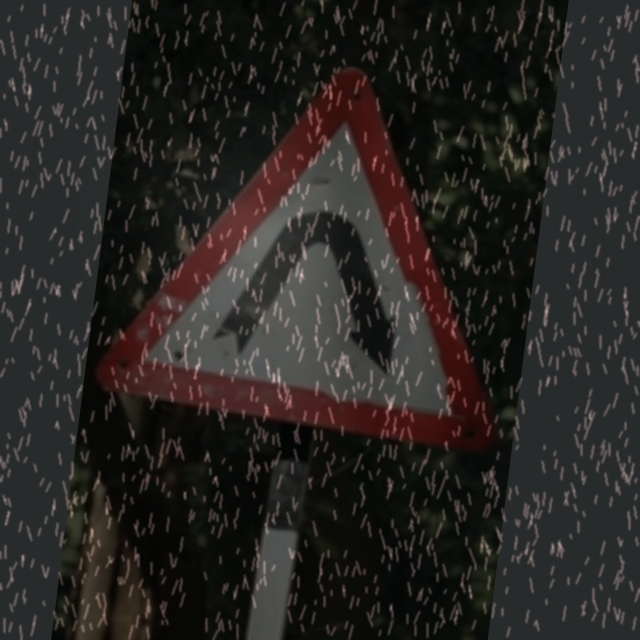Right_Hair_Pin_Bend: (106, 38, 523, 449)
